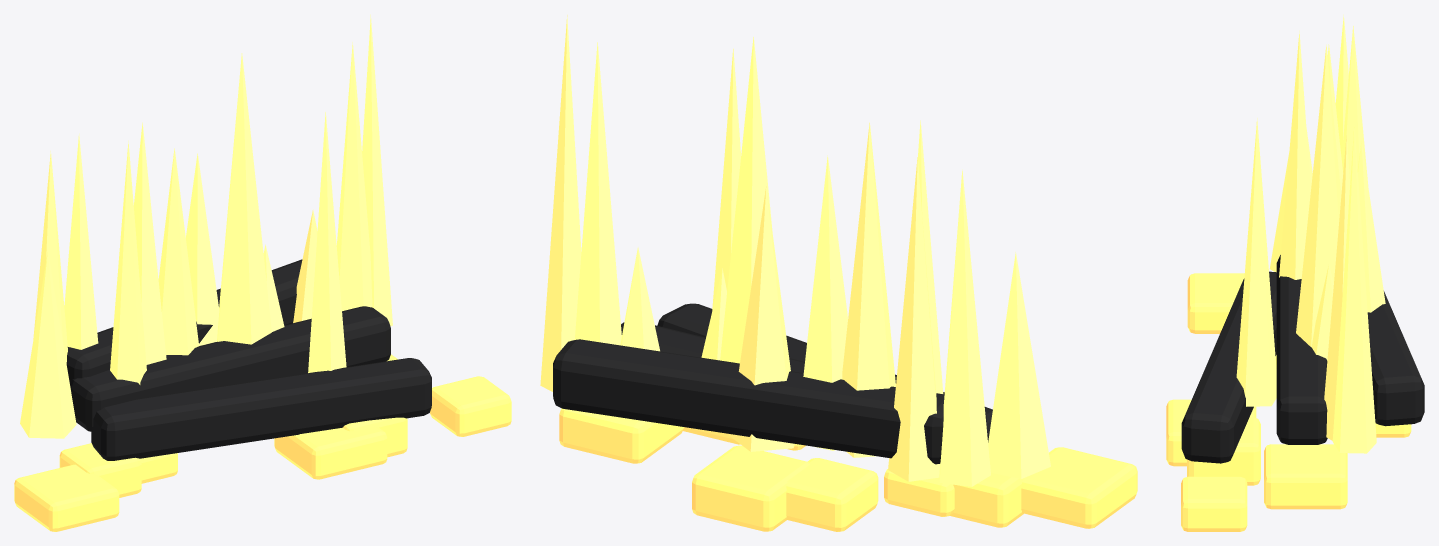
File: hearth_fire.glb
3 renders of one model, left to right at view 1: azimuth 30°, elevation 25°; view 2: azimuth 150°, elevation 25°; view 3: azimuth 270°, elevation 25°, orthographic. The views are drawn at different scales.
Visible parts, largest first — view 1: hearth_fire; view 2: hearth_fire; view 3: hearth_fire.
Boxes of the visible parts, x1,y1,x2,y2 form: hearth_fire: (14, 14, 511, 531); hearth_fire: (540, 15, 1137, 531); hearth_fire: (1166, 14, 1424, 531).
Bounding box in the file's own units: 0.9345 × 0.737 × 0.4387.
